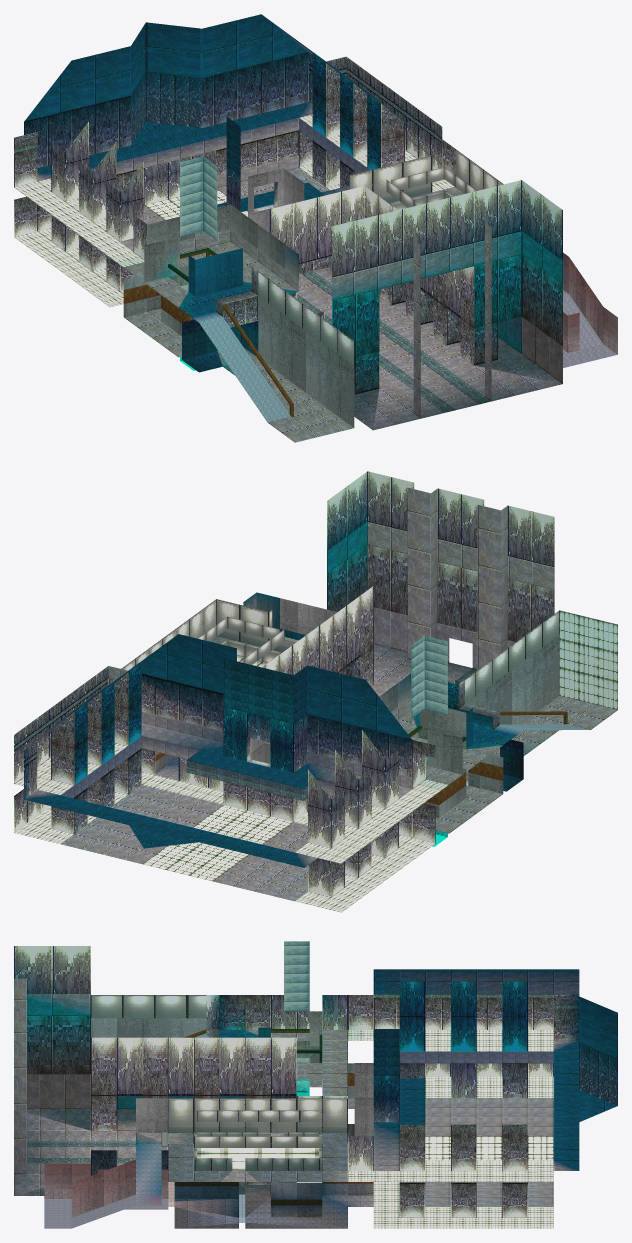
3 renders of one model, top to bottom at view 1: azimuth 30°, elevation 25°; view 2: azimuth 150°, elevation 25°; view 3: azimuth 270°, elevation 25°, orthographic. The views are drawn at different scales.
Parts seen in each view (by area): view 1: Grid_4, Grid_0, Grid_2, Grid_7, Grid_3, Grid_12, Grid_1, Grid_13, Grid_15, Grid_8, Grid_6; view 2: Grid_4, Grid_0, Grid_2, Grid_1, Grid_7, Grid_12, Grid_3, Grid_15, Grid_8, Grid_13; view 3: Grid_4, Grid_0, Grid_2, Grid_1, Grid_12, Grid_7, Grid_3, Grid_13, Grid_15, Grid_8.
Boxes of the visible parts, left/top/right/bottom form: Grid_4: left=24, top=14, right=617, bottom=442; Grid_0: left=14, top=52, right=562, bottom=394; Grid_2: left=51, top=52, right=562, bottom=317; Grid_7: left=123, top=168, right=617, bottom=427; Grid_3: left=14, top=65, right=491, bottom=412; Grid_12: left=258, top=149, right=503, bottom=365; Grid_1: left=14, top=114, right=454, bottom=350; Grid_13: left=192, top=290, right=617, bottom=422; Grid_15: left=180, top=156, right=217, bottom=360; Grid_8: left=123, top=248, right=293, bottom=416; Grid_6: left=182, top=324, right=258, bottom=359; Grid_4: left=24, top=487, right=617, bottom=901; Grid_0: left=51, top=544, right=554, bottom=896; Grid_2: left=14, top=471, right=554, bottom=896; Grid_1: left=14, top=610, right=617, bottom=912; Grid_7: left=155, top=592, right=559, bottom=817; Grid_12: left=122, top=599, right=559, bottom=703; Grid_3: left=14, top=658, right=477, bottom=800; Grid_15: left=411, top=635, right=447, bottom=836; Grid_8: left=155, top=711, right=567, bottom=804; Grid_13: left=494, top=724, right=589, bottom=735; Grid_4: left=14, top=969, right=617, bottom=1228; Grid_0: left=27, top=994, right=579, bottom=1217; Grid_2: left=14, top=946, right=553, bottom=1170; Grid_1: left=168, top=1030, right=553, bottom=1228; Grid_12: left=91, top=995, right=347, bottom=1170; Grid_7: left=44, top=1011, right=373, bottom=1217; Grid_3: left=27, top=994, right=617, bottom=1163; Grid_13: left=44, top=1033, right=206, bottom=1228; Grid_15: left=284, top=941, right=309, bottom=1095; Grid_8: left=174, top=1029, right=373, bottom=1205.
Size of the model in its own units: 350 by 212 by 588.
18 materials, 18 textured.
